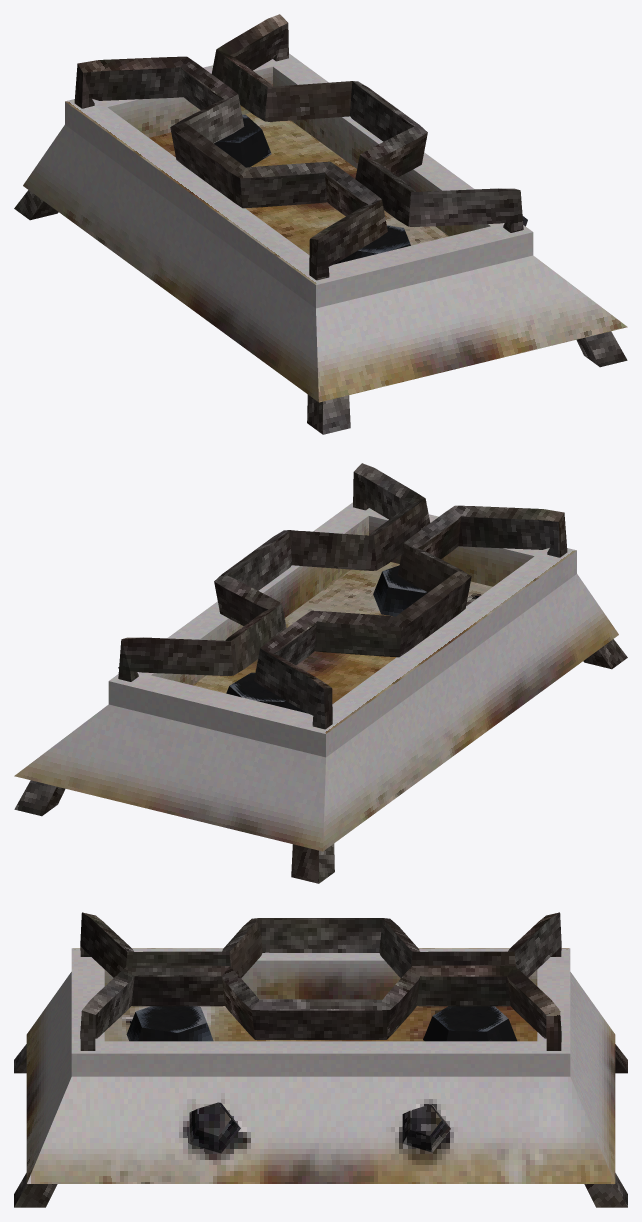
Rendered from cookerfire.glb.
The picture shows the model from 3 angles, top to bottom: view 1: azimuth 30°, elevation 25°; view 2: azimuth 150°, elevation 25°; view 3: azimuth 270°, elevation 25°; orthographic projection.
Visible parts, largest first — view 1: Cylinder; view 2: Cylinder; view 3: Cylinder.
Part boxes in pixels (box(x1,y1,x2,y2)): Cylinder: box(14, 14, 627, 434); Cylinder: box(14, 463, 627, 883); Cylinder: box(14, 912, 627, 1207).
Size of the model in its own units: 0.6678 by 0.3393 by 1.15.
1 material, 1 textured.
